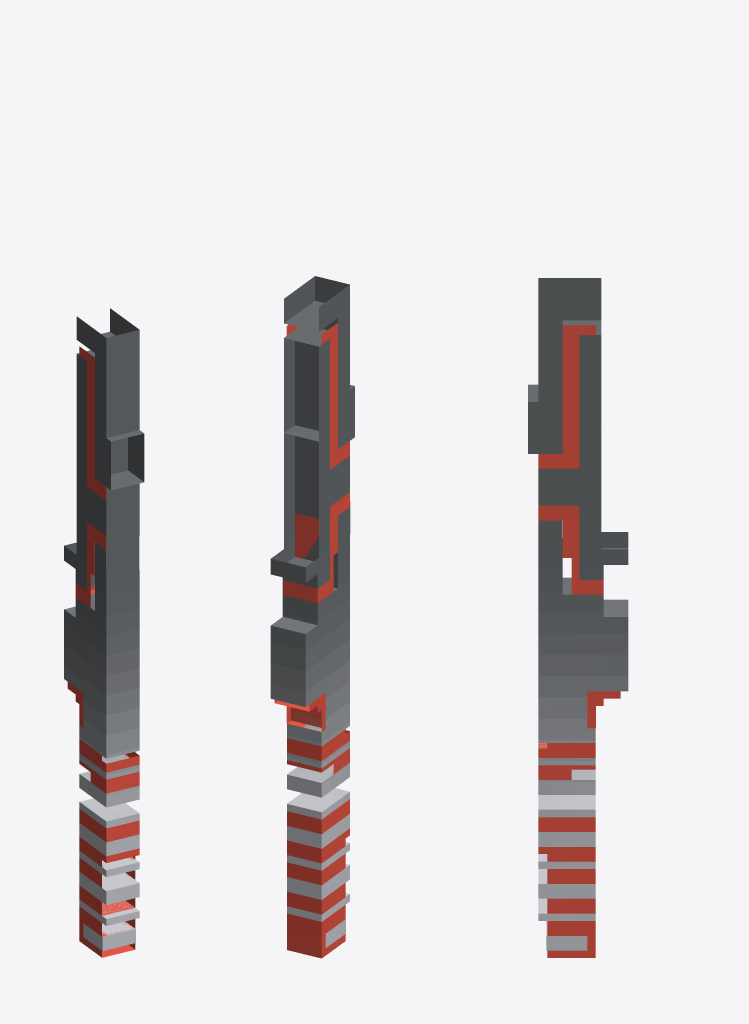
File: zeroone.obj
3 views of the same model, side by side, from view 1: azimuth 30°, elevation 25°; view 2: azimuth 150°, elevation 25°; view 3: azimuth 270°, elevation 25° (orthographic). The views are drawn at different scales.
Bounding box in the file's own units: 3.64 × 95.45 × 26.8.
